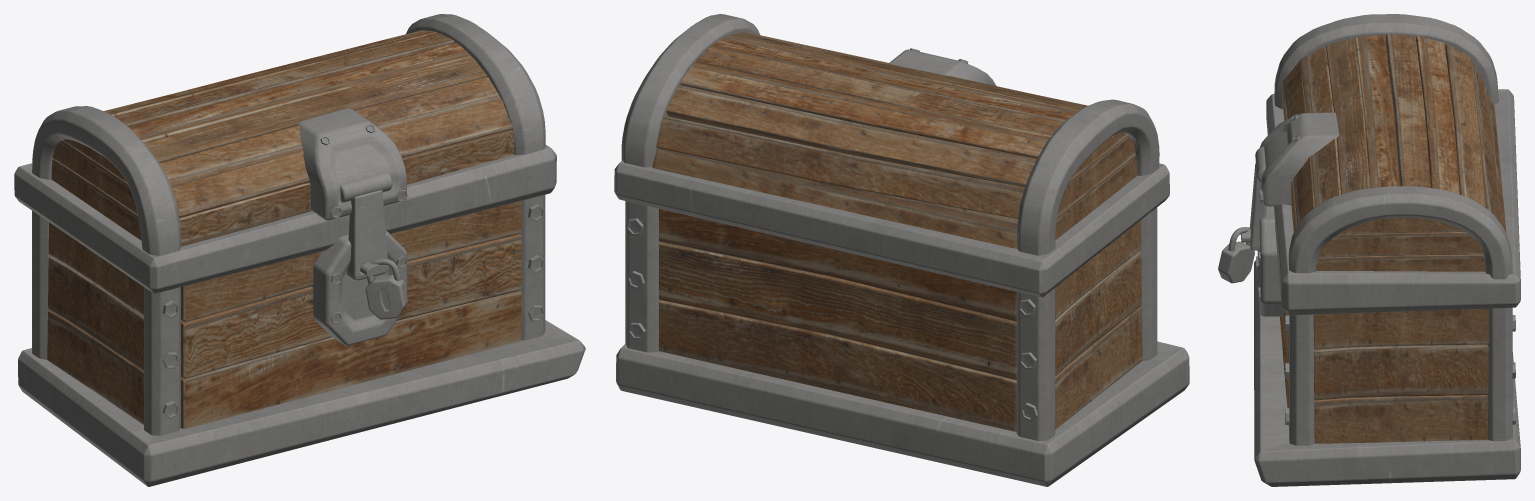
The model's file is treasure_chest.glb.
The picture shows the model from 3 angles, left to right: view 1: azimuth 30°, elevation 25°; view 2: azimuth 150°, elevation 25°; view 3: azimuth 270°, elevation 25°; orthographic projection. The views are drawn at different scales.
Parts seen in each view (by area): view 1: Object_5, Object_3, Object_4; view 2: Object_5, Object_3, Object_4; view 3: Object_5, Object_4, Object_3.
Boxes of the visible parts, left/top/right/bottom form: Object_5: left=47, top=30, right=521, bottom=428; Object_3: left=18, top=195, right=585, bottom=486; Object_4: left=14, top=14, right=556, bottom=293; Object_5: left=652, top=32, right=1142, bottom=431; Object_3: left=616, top=201, right=1189, bottom=486; Object_4: left=614, top=14, right=1169, bottom=297; Object_5: left=1280, top=33, right=1506, bottom=443; Object_4: left=1249, top=14, right=1520, bottom=315; Object_3: left=1218, top=206, right=1520, bottom=486.
Size of the model in its own units: 5.25 by 3.51 by 3.35.
Materials: 3 (3 with a texture image).
